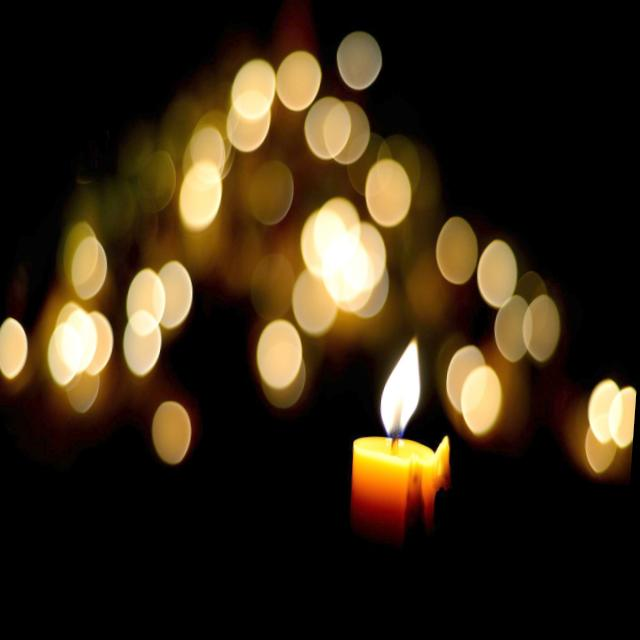Fire_Save: (0, 0, 640, 534), (345, 332, 460, 546)
